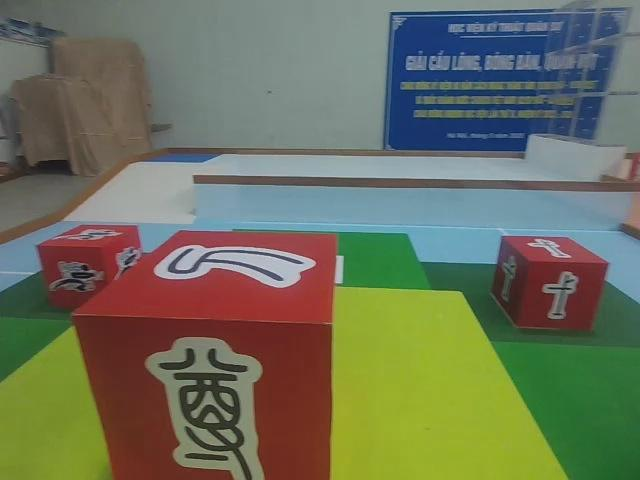R1: (34, 222, 144, 310)
R2 Fake: (68, 227, 338, 480)
R2 Real: (489, 233, 609, 333)
